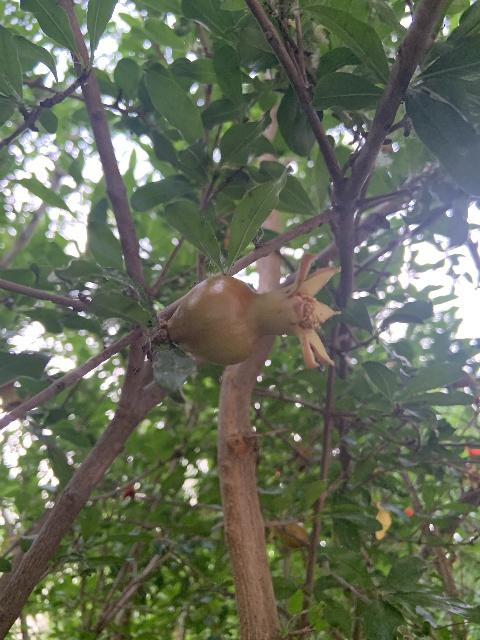early-fruit: (162, 250, 343, 370)
